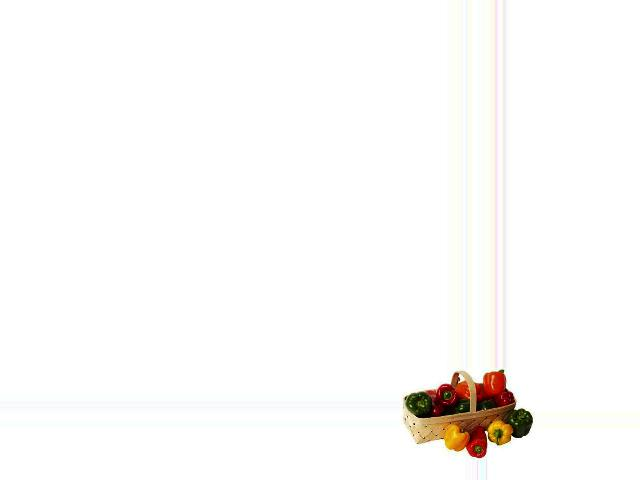bell_pepper: (406, 391, 434, 415)
